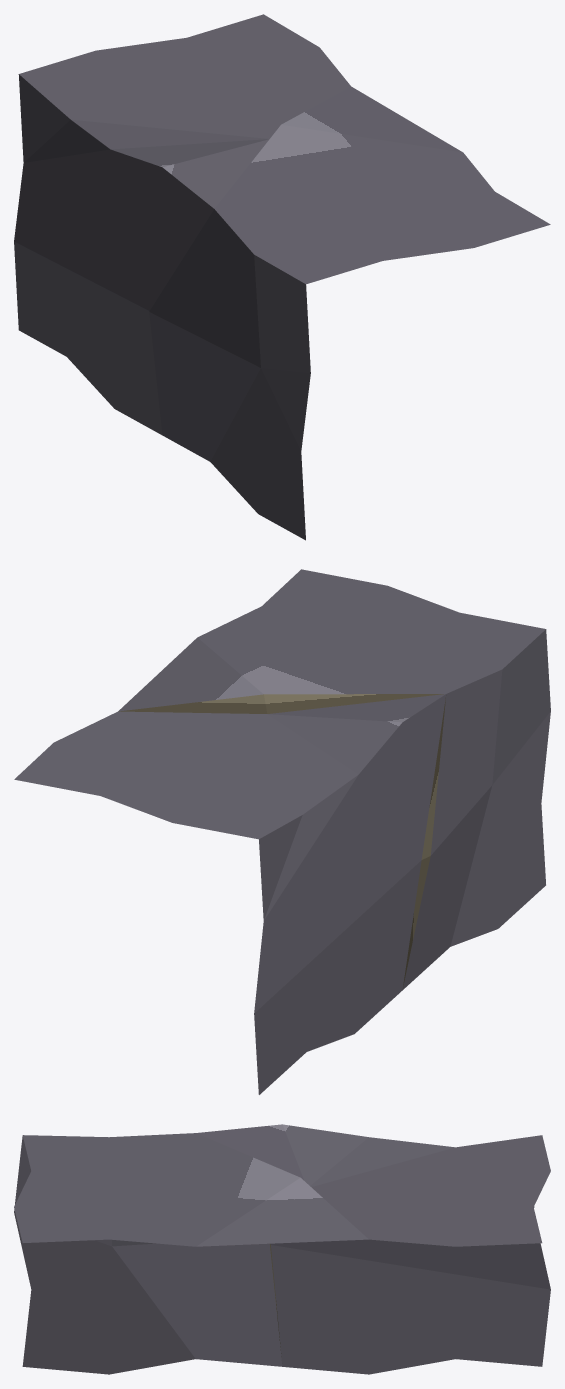
The model's file is HalfFloorCorner_00.fbx.
3 renders of one model, top to bottom at view 1: azimuth 30°, elevation 25°; view 2: azimuth 150°, elevation 25°; view 3: azimuth 270°, elevation 25°, orthographic. The views are drawn at different scales.
Parts seen in each view (by area): view 1: HalfFloorCorner_00; view 2: HalfFloorCorner_00; view 3: HalfFloorCorner_00.
Boxes of the visible parts, bbox=[...] form: HalfFloorCorner_00: bbox=[14, 14, 550, 540]; HalfFloorCorner_00: bbox=[14, 569, 550, 1094]; HalfFloorCorner_00: bbox=[14, 1124, 550, 1374].
Bounding box in the file's own units: 55.05 × 53.91 × 103.
Materials: 1 (1 with a texture image).
